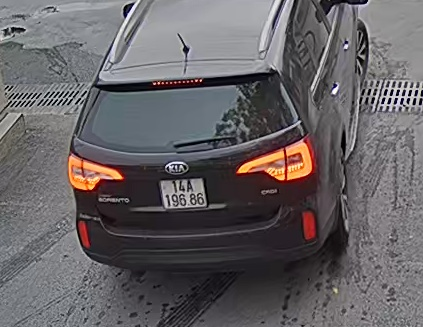vehicle plate: (153, 174, 208, 210)
